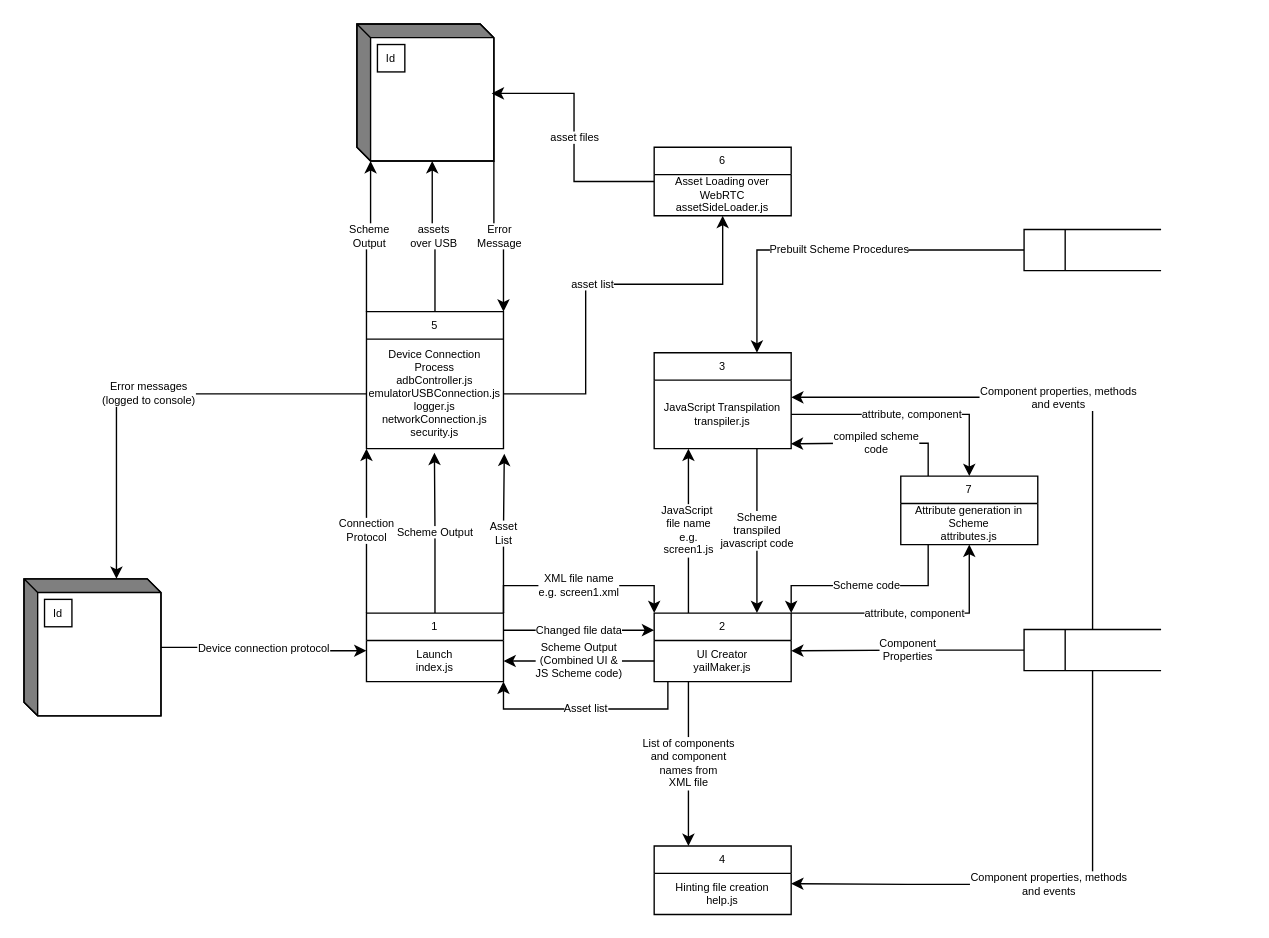
This 1269x938 diagram has some shape labels left out. Here are the shapes that lost their labels. From the top down, the box of each, then its label:
(356, 23, 494, 161): User Device
(1023, 228, 1161, 271): D Premade Procedures to implement programming requirements procedures.js
(23, 577, 161, 716): User
(1023, 628, 1161, 671): D Component Properties, Methods and events elements.js
